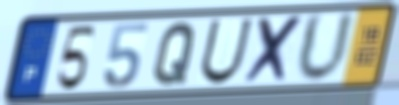5: (101, 20, 150, 91), (55, 24, 99, 92)
Q: (150, 20, 199, 88)
U: (294, 9, 358, 86), (197, 16, 256, 87)
X: (242, 13, 307, 87)
